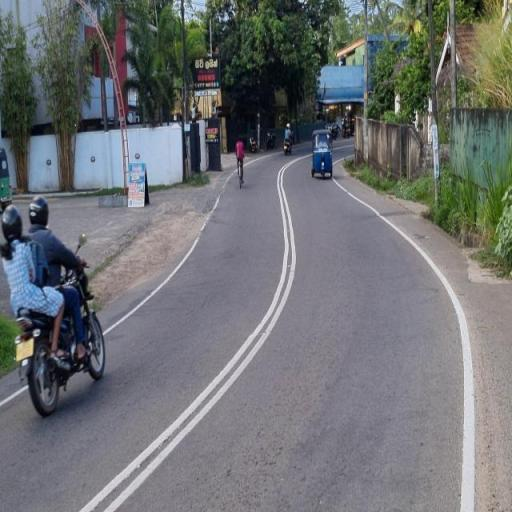double_white_line: (78, 208, 300, 510)
